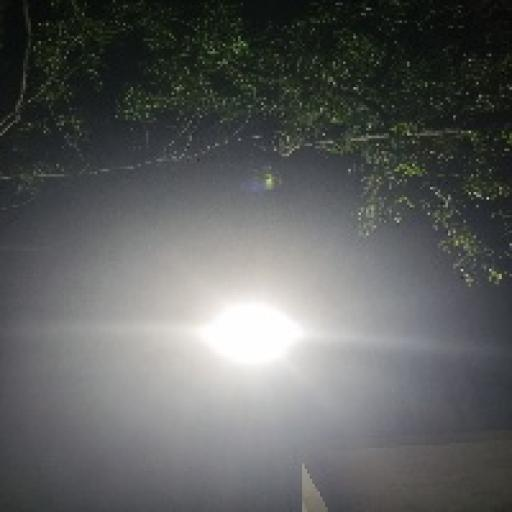Working: (196, 288, 315, 387)
